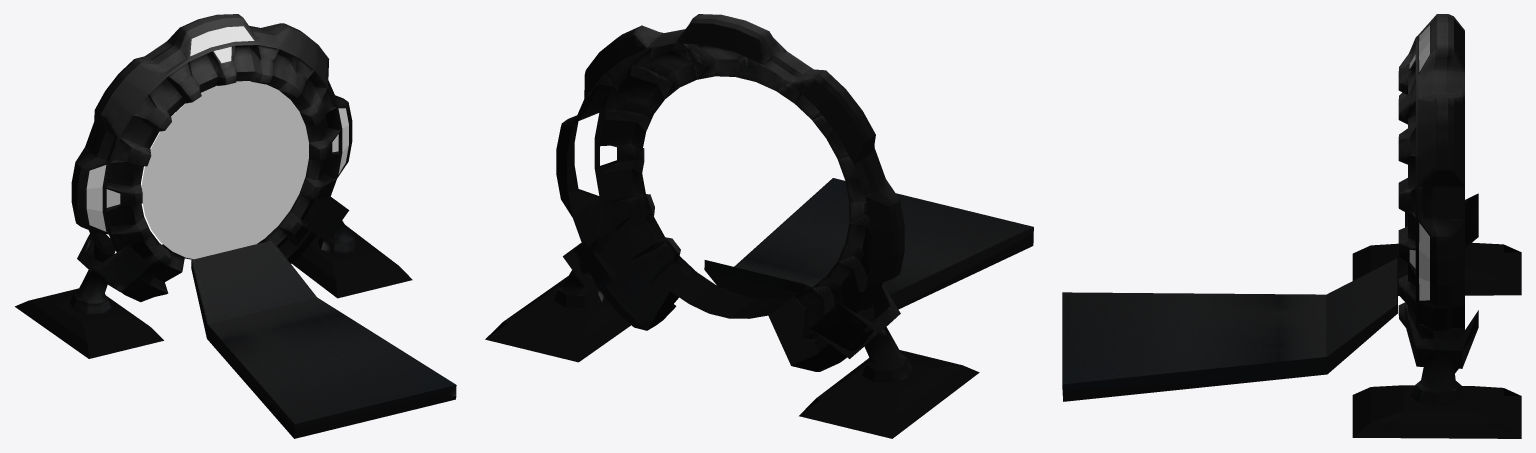
The model's file is PORTAL.glb.
The picture shows the model from 3 angles, left to right: view 1: azimuth 30°, elevation 25°; view 2: azimuth 150°, elevation 25°; view 3: azimuth 270°, elevation 25°; orthographic projection. The views are drawn at different scales.
Parts seen in each view (by area): view 1: Portal, Portal_gate, Portal_lights; view 2: Portal; view 3: Portal, Portal_lights.
Boxes of the visible parts, left/top/right/bottom form: Portal: left=15, top=14, right=456, bottom=438; Portal_gate: left=142, top=81, right=308, bottom=259; Portal_lights: left=86, top=26, right=348, bottom=231; Portal: left=485, top=14, right=1033, bottom=438; Portal: left=1062, top=14, right=1521, bottom=438; Portal_lights: left=1409, top=25, right=1429, bottom=300.
Size of the model in its own units: 6.19 by 5.07 by 6.44.
Materials: 1 (1 with a texture image).
